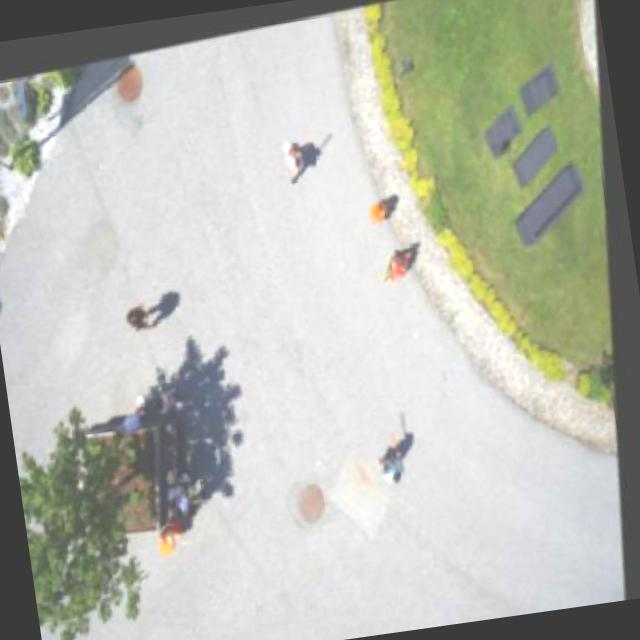Person: (377, 234, 430, 285), (110, 381, 156, 435), (114, 292, 162, 333), (277, 126, 316, 176), (377, 440, 419, 486), (144, 377, 194, 412), (364, 186, 398, 227)
